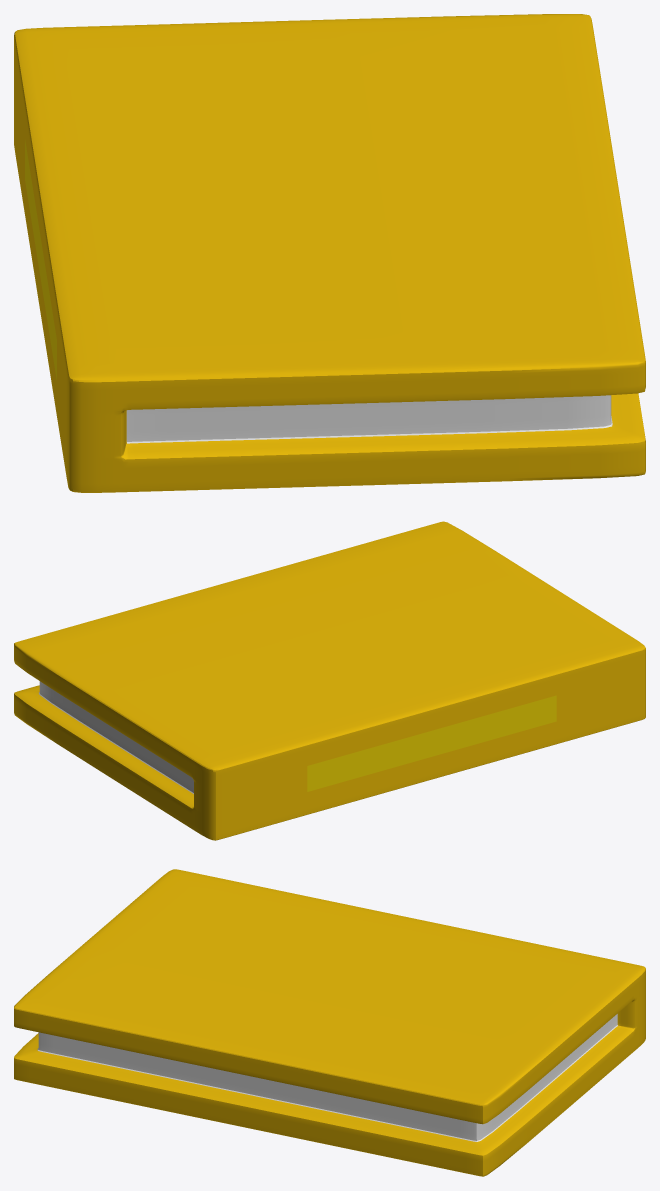
File: Book Yellow.fbx
3 views of the same model, one above another, from view 1: azimuth 30°, elevation 25°; view 2: azimuth 150°, elevation 25°; view 3: azimuth 270°, elevation 25° (orthographic). The views are drawn at different scales.
Parts seen in each view (by area): view 1: Cube.001; view 2: Cube.001; view 3: Cube.001.
Part boxes in pixels (box(x1,y1,x2,y2)): Cube.001: box(14, 14, 645, 492); Cube.001: box(14, 521, 645, 840); Cube.001: box(14, 869, 645, 1176).
Bounding box in the file's own units: 62.23 × 8.98 × 70.29.
